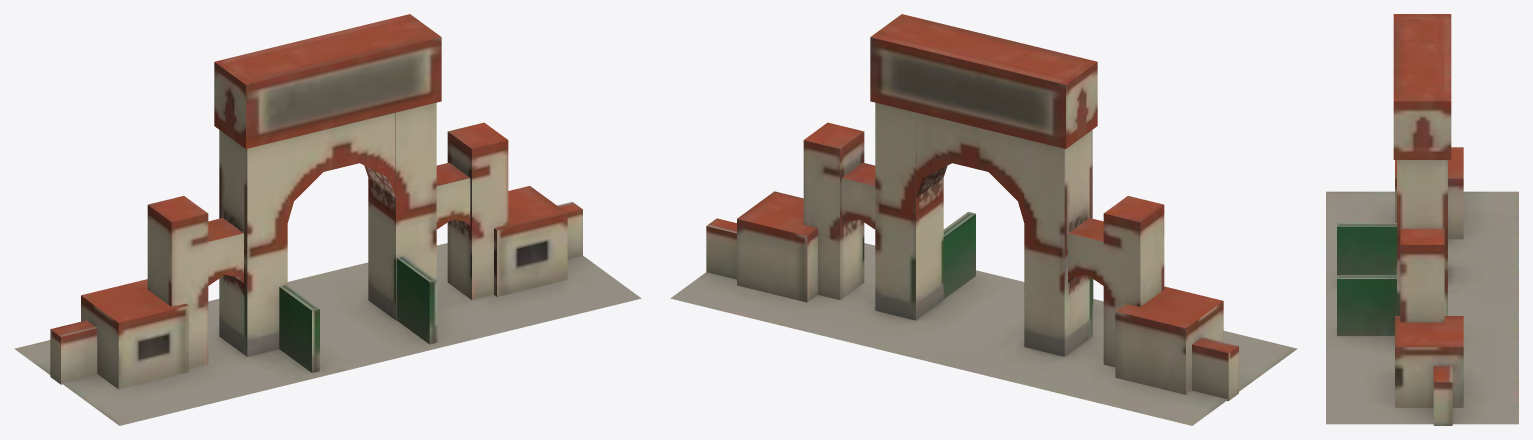
Rendered from indira_park_gate.glb.
3 renders of one model, left to right at view 1: azimuth 30°, elevation 25°; view 2: azimuth 150°, elevation 25°; view 3: azimuth 270°, elevation 25°, orthographic. The views are drawn at different scales.
Parts seen in each view (by area): view 1: indira_park_gate_body; view 2: indira_park_gate_body; view 3: indira_park_gate_body.
Part boxes in pixels (bbox=[...]): indira_park_gate_body: bbox=[14, 14, 641, 425]; indira_park_gate_body: bbox=[670, 14, 1297, 425]; indira_park_gate_body: bbox=[1326, 14, 1518, 425].
Size of the model in its own units: 40 by 20.2 by 14.
2 materials, 2 textured.
